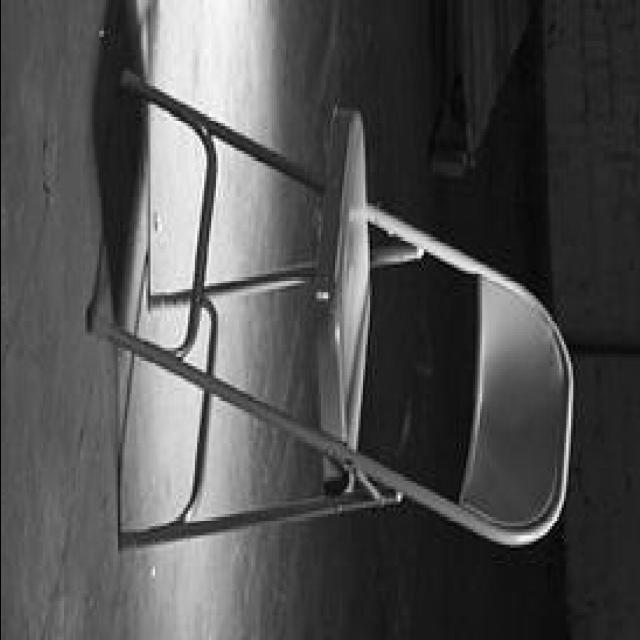chair: (86, 64, 580, 558)
